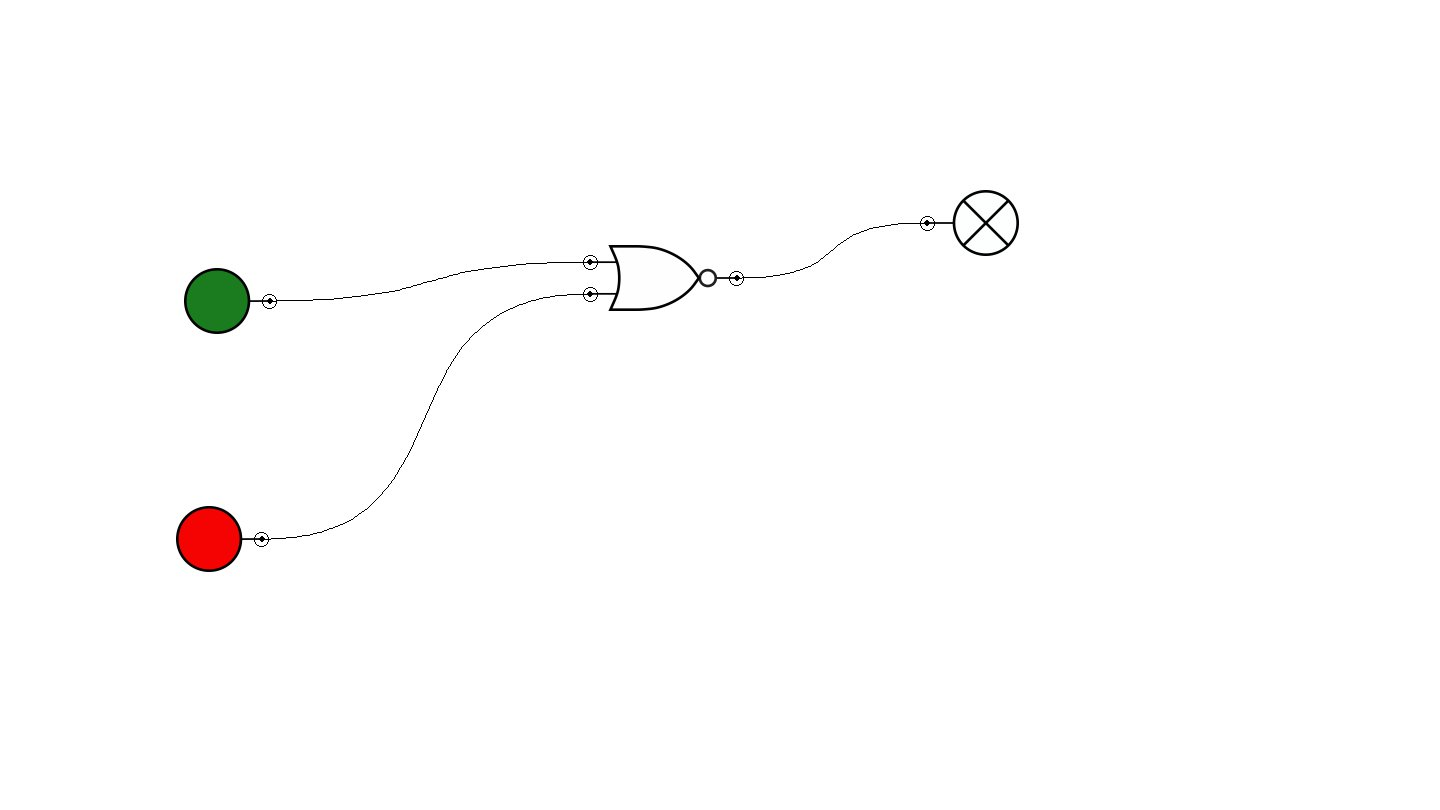bulb: (920, 190, 1019, 256)
nor: (583, 245, 744, 311)
switch_False: (176, 506, 269, 572)
switch_True: (184, 268, 277, 334)
